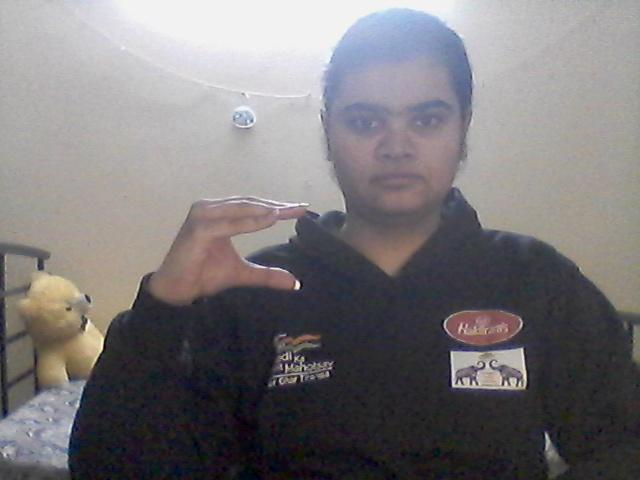no: (136, 189, 313, 310)
